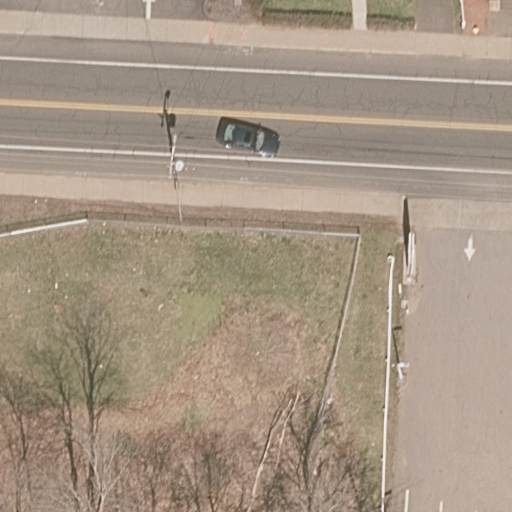DT: (167, 132, 184, 189)
